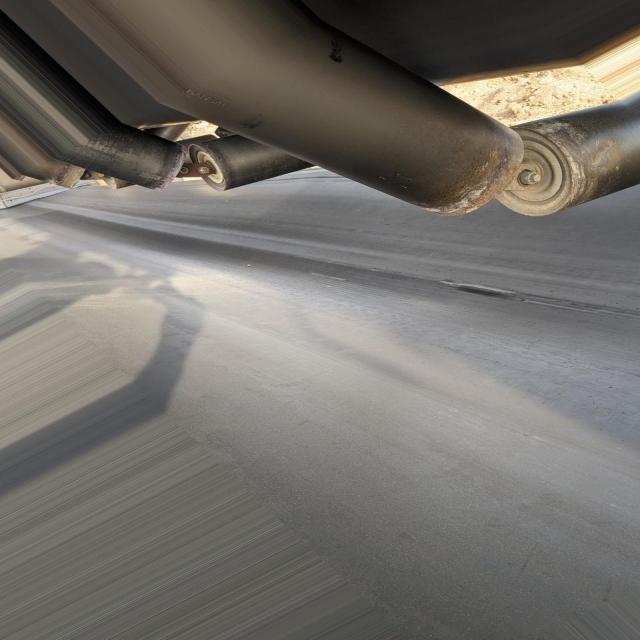Roller: (169, 20, 524, 218), (502, 103, 640, 217), (78, 123, 182, 192), (193, 135, 309, 187)
impact damage: (440, 282, 514, 298)
